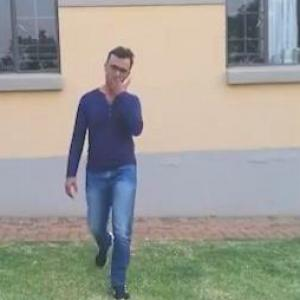follow: (79, 47, 148, 268)
